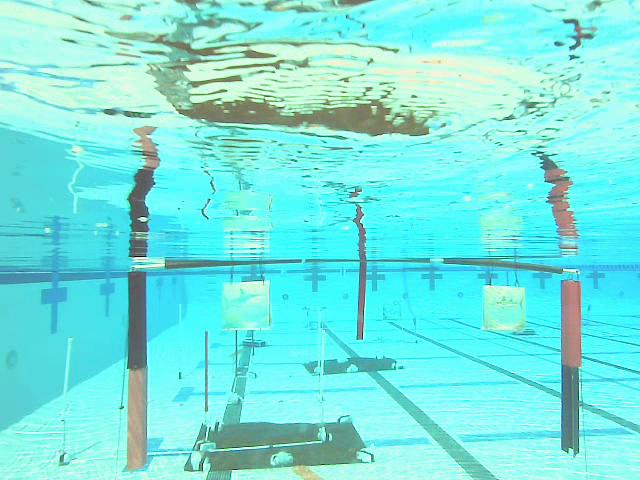black_poster: (203, 331, 209, 411)
divider: (357, 263, 366, 338)
left_gate_poster: (126, 271, 149, 468)
right_gate_poster: (560, 280, 580, 456)
shark: (221, 283, 271, 328)
swordfish: (483, 285, 526, 335)
white_poster: (60, 339, 74, 464), (178, 304, 185, 379), (319, 329, 326, 403)
